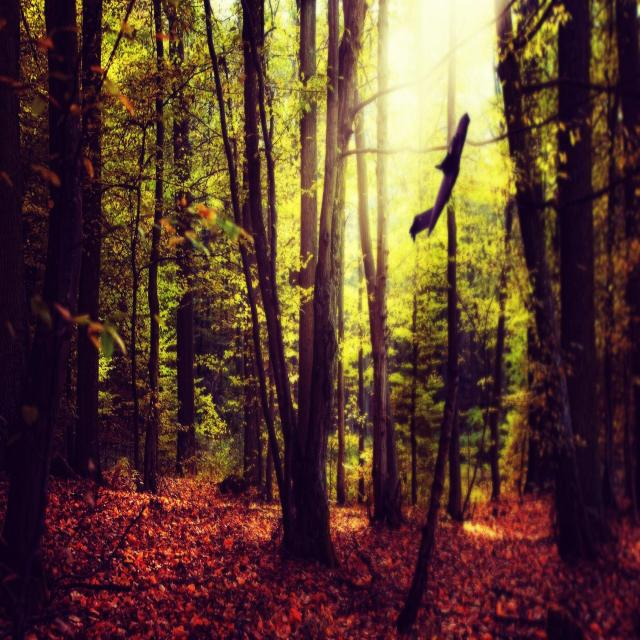airplane: (409, 111, 470, 243)
